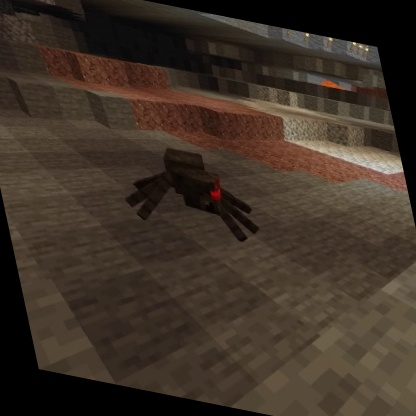spider: (107, 133, 266, 248)
